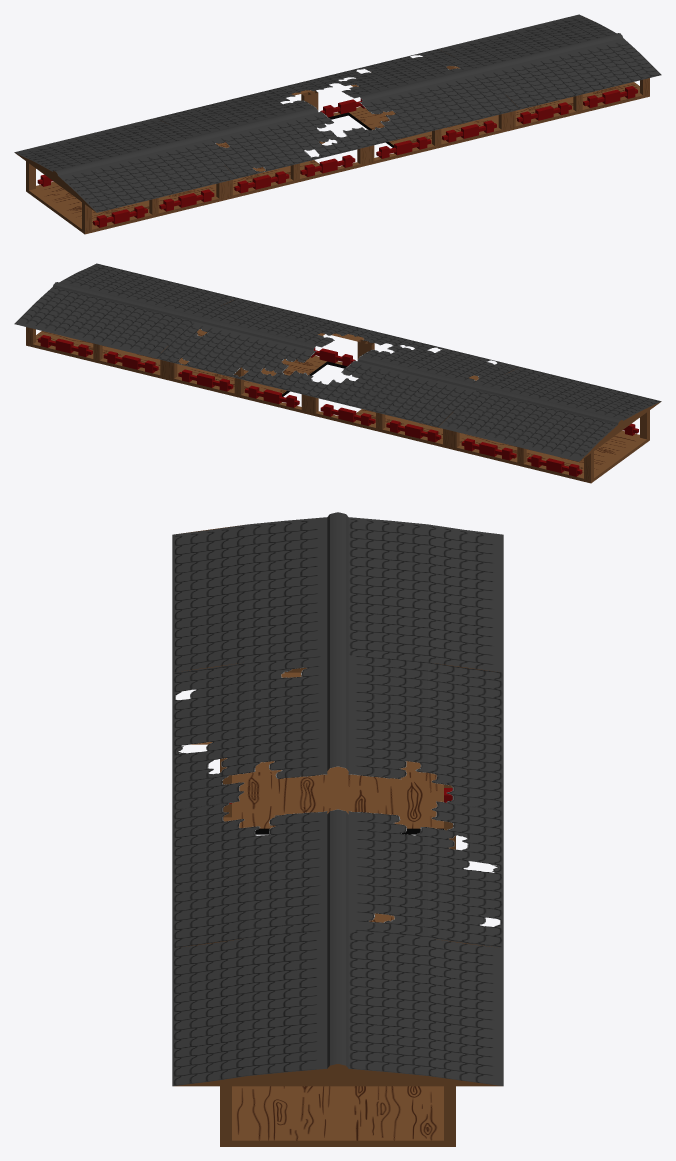
File: long_bridge 2.fbx
3 views of the same model, one above another, from view 1: azimuth 30°, elevation 25°; view 2: azimuth 150°, elevation 25°; view 3: azimuth 270°, elevation 25° (orthographic). The views are drawn at different scales.
Visible parts, largest first — view 1: bridge2_pCube3, broken_longbridge; view 2: bridge2_pCube3, broken_longbridge; view 3: bridge2_pCube3, broken_longbridge.
Boxes of the visible parts, x1,y1,x2,y2 form: bridge2_pCube3: (14,14,661,234); broken_longbridge: (156,49,520,199); bridge2_pCube3: (14,263,661,483); broken_longbridge: (155,298,519,448); bridge2_pCube3: (172,512,503,1146); broken_longbridge: (172,650,503,948).
Size of the model in its own units: 1211 by 85.03 by 307.
